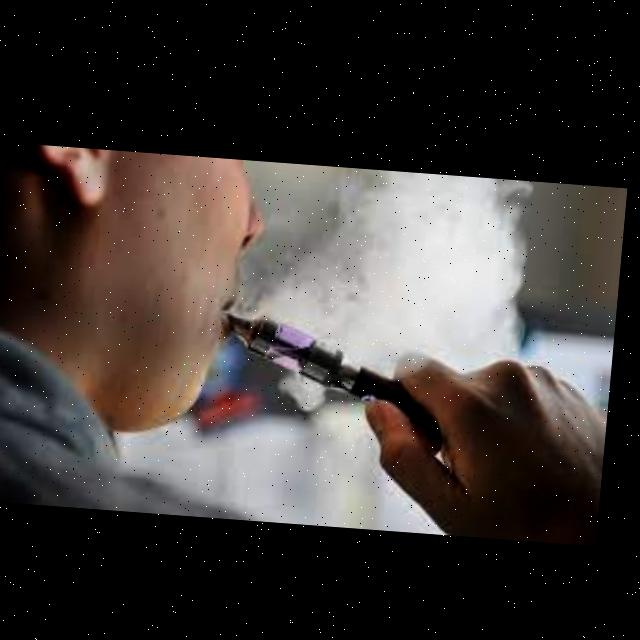vape: (221, 306, 408, 397)
